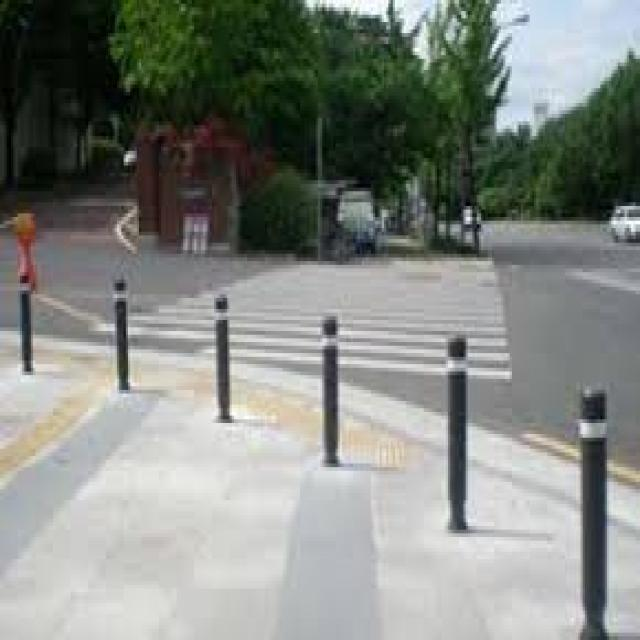bollard: (576, 383, 614, 640), (441, 326, 476, 538), (317, 306, 346, 476), (108, 266, 136, 406), (16, 265, 44, 385), (211, 282, 234, 426)
